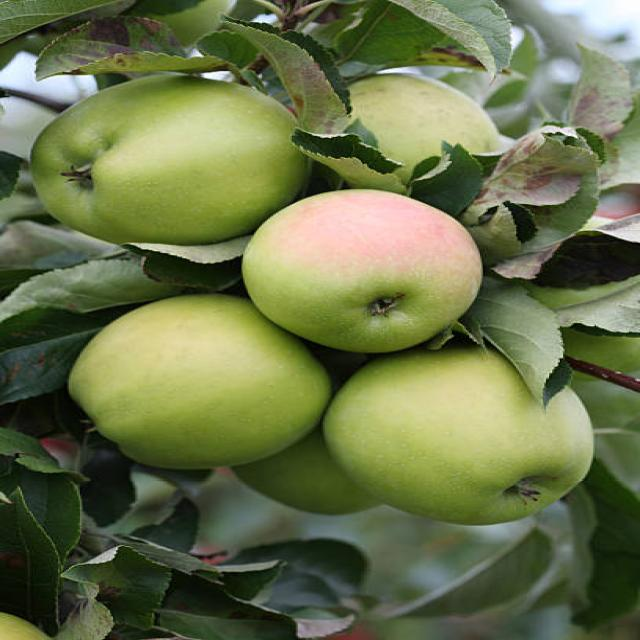Unripe: (28, 68, 313, 245), (67, 293, 334, 470), (326, 348, 592, 524), (240, 187, 481, 352)
